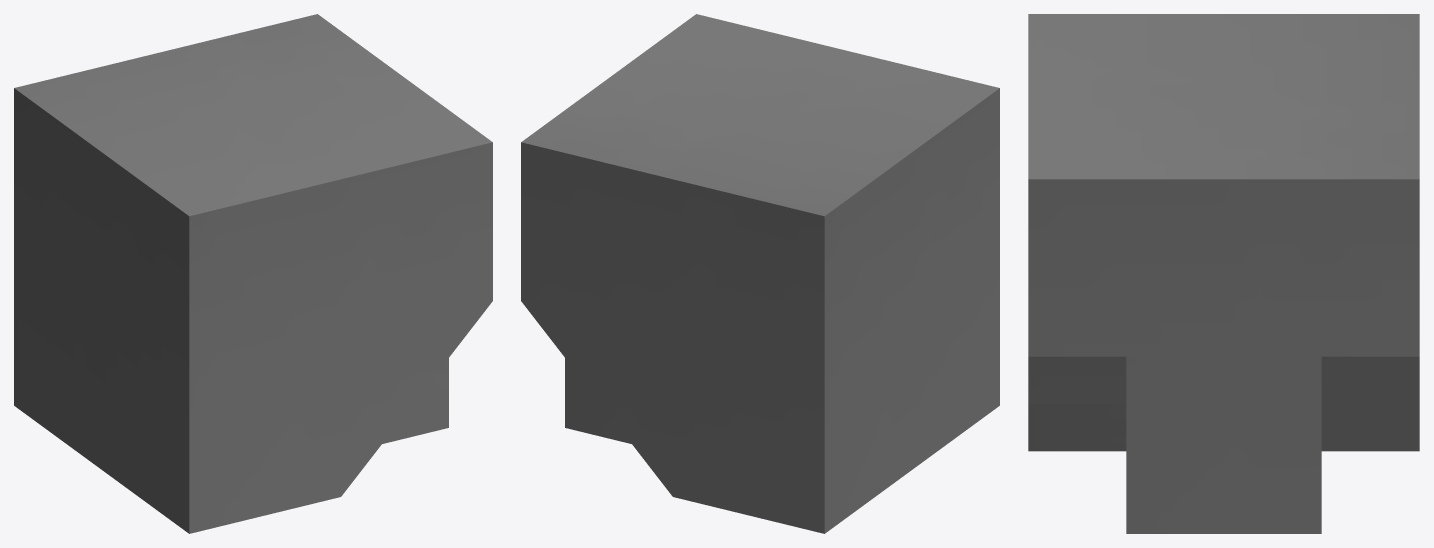
Rendered from dc_metro_roof_g3b.obj.
3 renders of one model, left to right at view 1: azimuth 30°, elevation 25°; view 2: azimuth 150°, elevation 25°; view 3: azimuth 270°, elevation 25°, orthographic. The views are drawn at different scales.
Visible parts, largest first — view 1: part3b; view 2: part3b; view 3: part3b.
Boxes of the visible parts, <box> form: part3b: <box>14,14,492,533</box>; part3b: <box>521,14,999,533</box>; part3b: <box>1028,14,1419,533</box>.
Bounding box in the file's own units: 1 × 1 × 1.
Materials: 1 (1 with a texture image).
